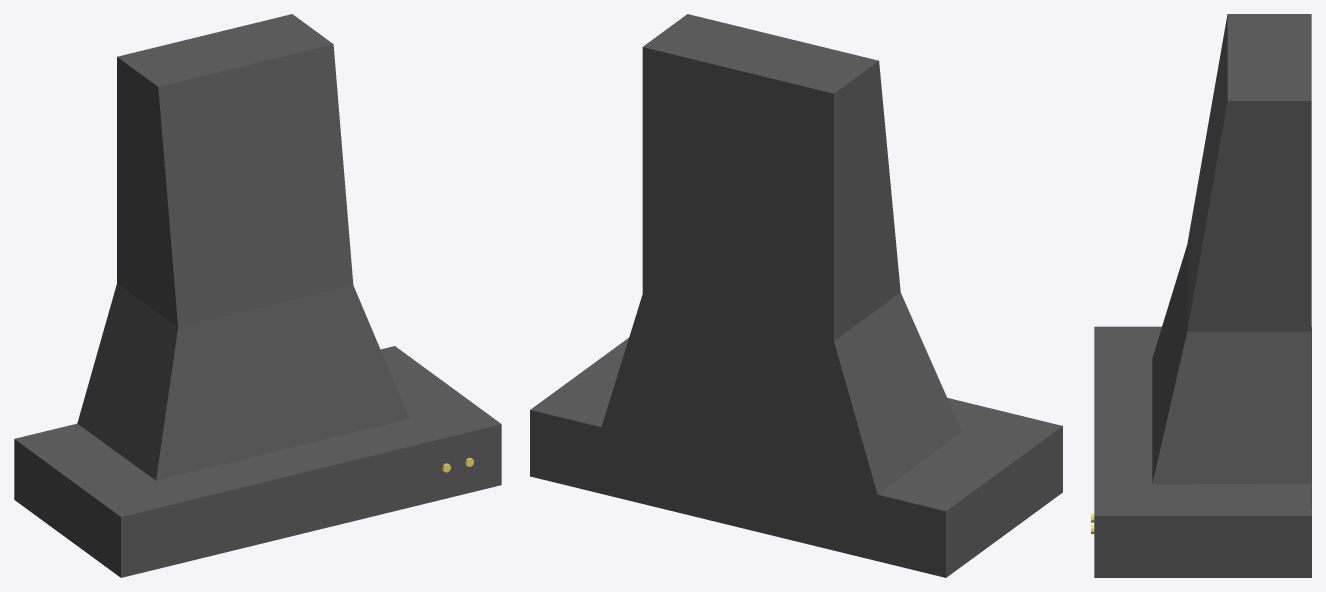
The model's file is Kitchen_Hood_1.fbx.
3 views of the same model, side by side, from view 1: azimuth 30°, elevation 25°; view 2: azimuth 150°, elevation 25°; view 3: azimuth 270°, elevation 25° (orthographic). The views are drawn at different scales.
Parts seen in each view (by area): view 1: Kitchen_Hood_1; view 2: Kitchen_Hood_1; view 3: Kitchen_Hood_1.
Boxes of the visible parts, bbox=[...] form: Kitchen_Hood_1: bbox=[14, 14, 501, 577]; Kitchen_Hood_1: bbox=[530, 14, 1062, 577]; Kitchen_Hood_1: bbox=[1091, 14, 1311, 577].
Bounding box in the file's own units: 125 × 61.56 × 131.
